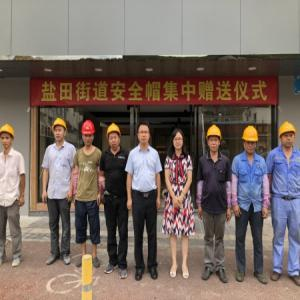none: (136, 121, 152, 147), (172, 128, 186, 154)
red: (81, 120, 97, 147)
yellow: (206, 124, 224, 155), (242, 125, 260, 154), (279, 121, 297, 150), (106, 124, 123, 151), (52, 117, 68, 145), (2, 125, 16, 153)
